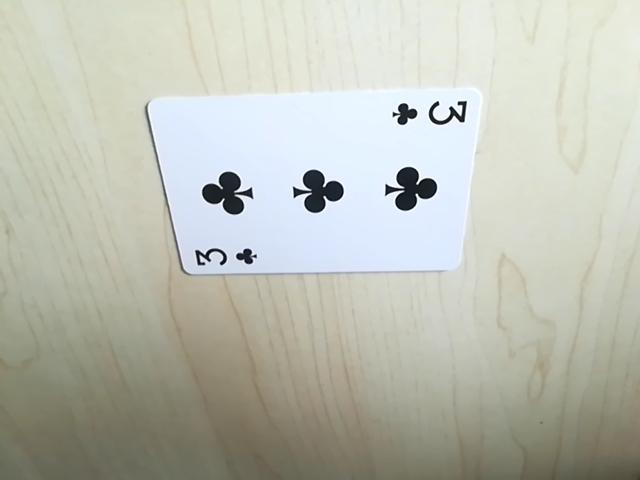mh 3: (390, 93, 468, 129), (187, 243, 257, 273)
